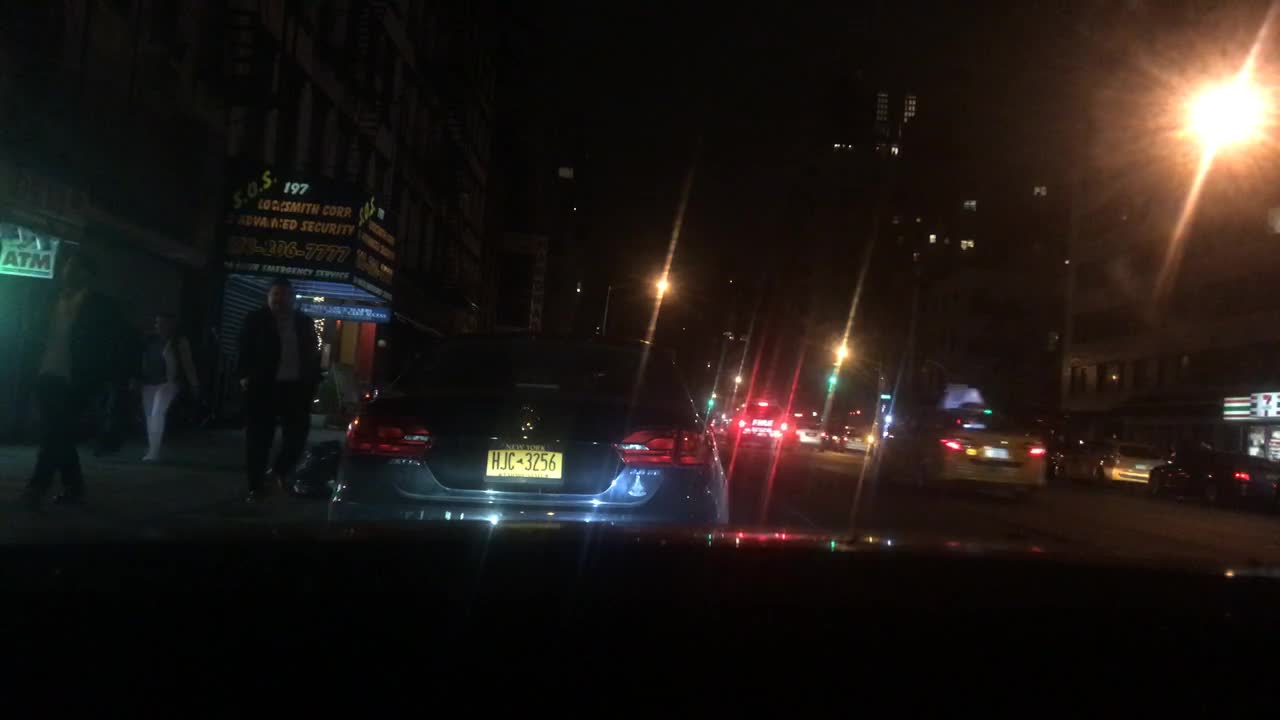car: (325, 322, 730, 526), (869, 380, 1048, 499), (1146, 450, 1279, 506), (1059, 435, 1166, 488), (724, 398, 795, 454), (793, 412, 827, 449), (840, 422, 874, 452), (1041, 444, 1068, 476), (820, 425, 847, 449)
person: (15, 248, 125, 513), (234, 275, 327, 509), (123, 307, 204, 466), (84, 307, 145, 464)
traffic light: (827, 368, 838, 386), (705, 393, 715, 412)
